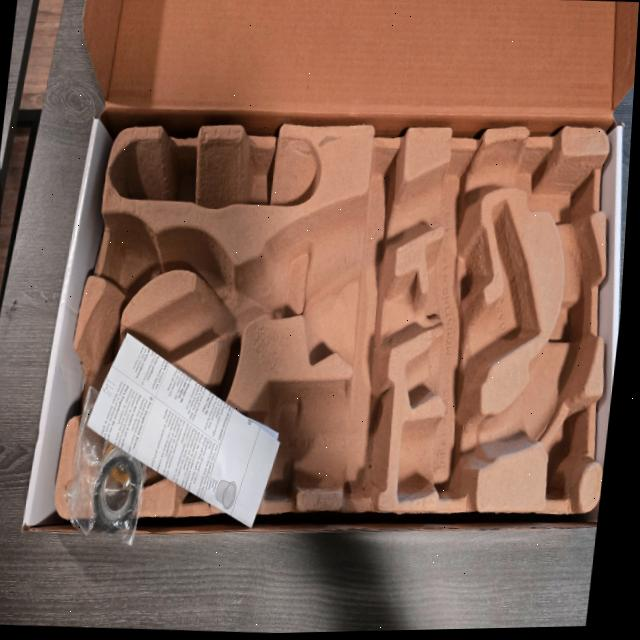1m: (62, 141, 600, 500)
2m: (403, 202, 538, 403)
3m: (228, 384, 390, 490)
4m: (109, 140, 319, 207)
5m: (113, 227, 152, 288)
6o: (65, 389, 155, 548)
7m: (158, 387, 222, 503)
8: (84, 331, 277, 528)
